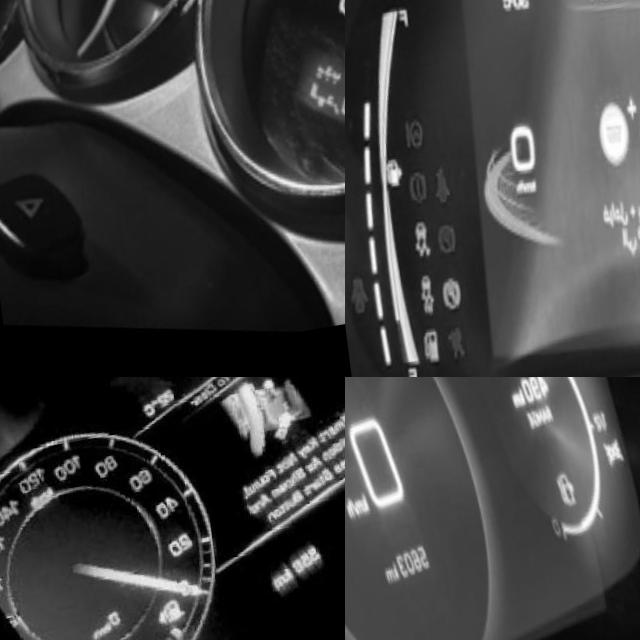Doors: (345, 269, 361, 322)
Low fuel level: (407, 330, 430, 370)
